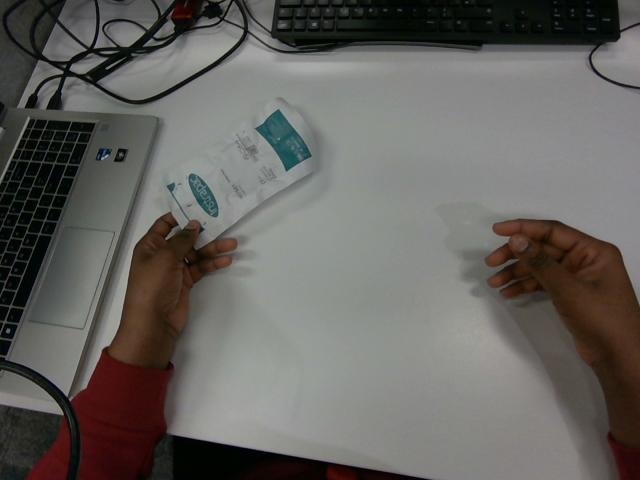gallipot: (163, 98, 315, 247)
